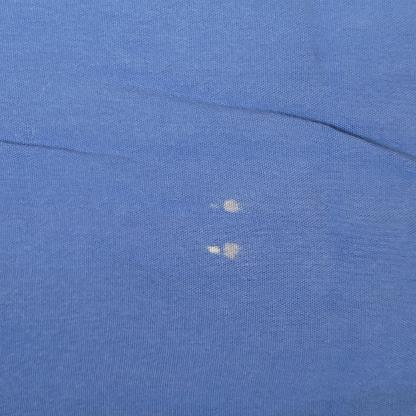spot: (198, 240, 257, 259), (207, 192, 244, 219)
